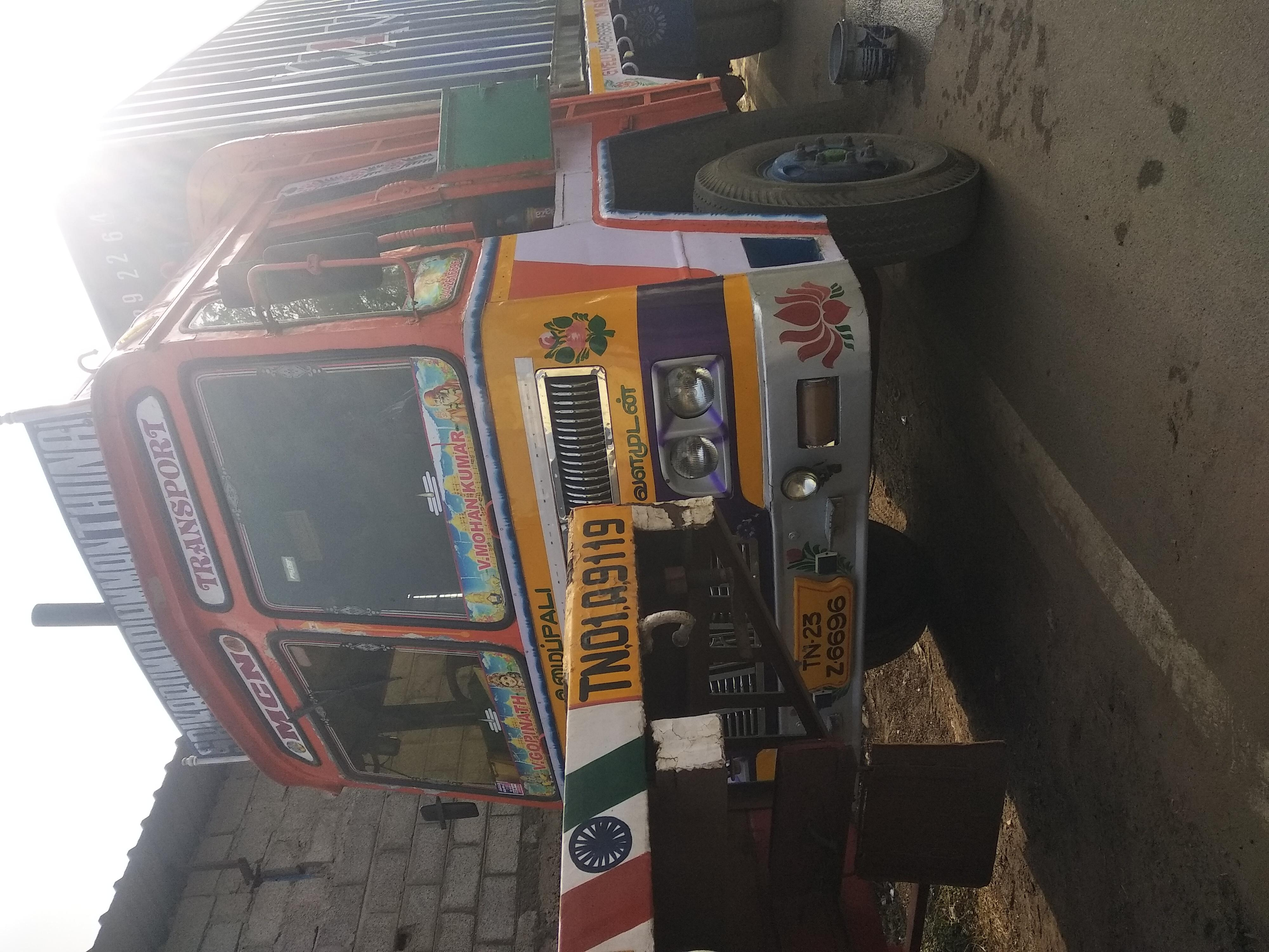License-Plate: (326, 426, 594, 480), (349, 594, 490, 640)
